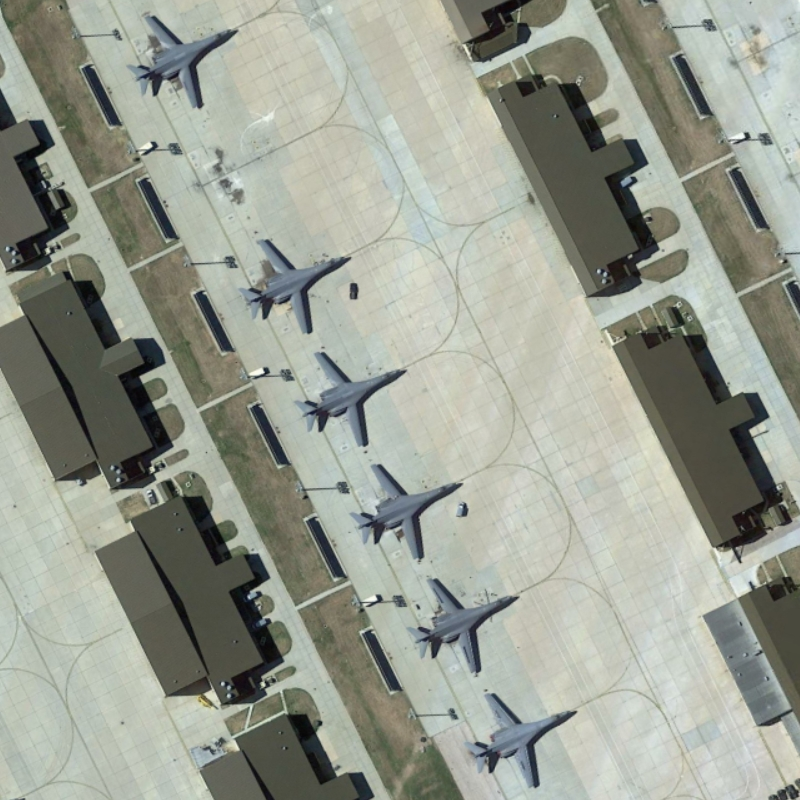A10: (121, 4, 243, 117), (462, 689, 585, 797), (237, 227, 352, 341), (404, 572, 525, 678), (350, 459, 466, 567), (293, 346, 413, 450)
